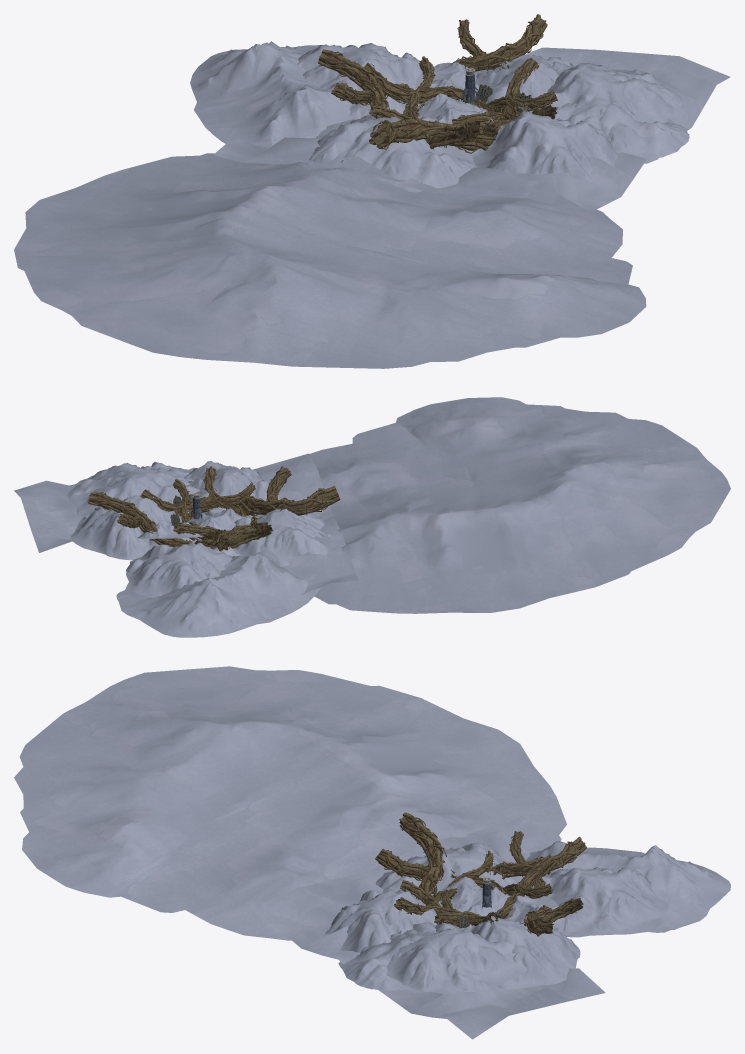
Rendered from arena1.glb.
3 views of the same model, one above another, from view 1: azimuth 30°, elevation 25°; view 2: azimuth 150°, elevation 25°; view 3: azimuth 270°, elevation 25° (orthographic). The views are drawn at different scales.
Parts seen in each view (by area): view 1: back; view 2: back; view 3: back.
Boxes of the visible parts, left/top/right/bottom form: back: left=14, top=14, right=730, bottom=368; back: left=14, top=397, right=730, bottom=637; back: left=14, top=666, right=730, bottom=1039.
Bounding box in the file's own units: 5976 × 587 × 5438.
Materials: 19 (19 with a texture image).
